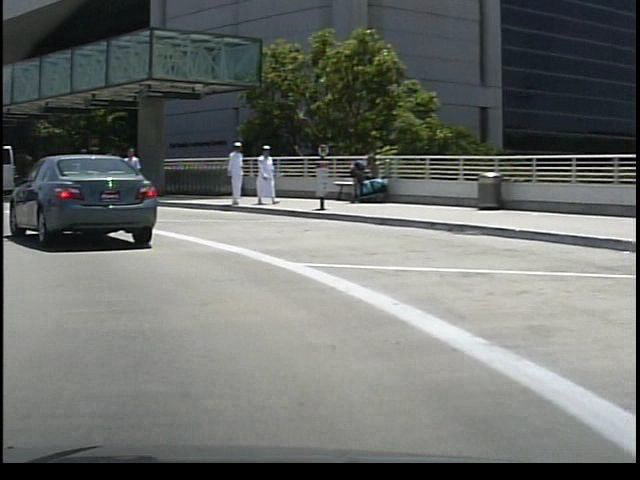person: (216, 138, 247, 214), (112, 142, 142, 218), (250, 143, 277, 205)
